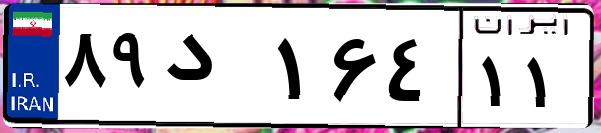1: (270, 28, 330, 110), (475, 38, 525, 113), (525, 38, 570, 115)
4: (385, 28, 445, 110)
6: (330, 28, 385, 110)
8: (57, 26, 110, 100)
9: (110, 28, 158, 98)
د: (158, 20, 270, 120)
